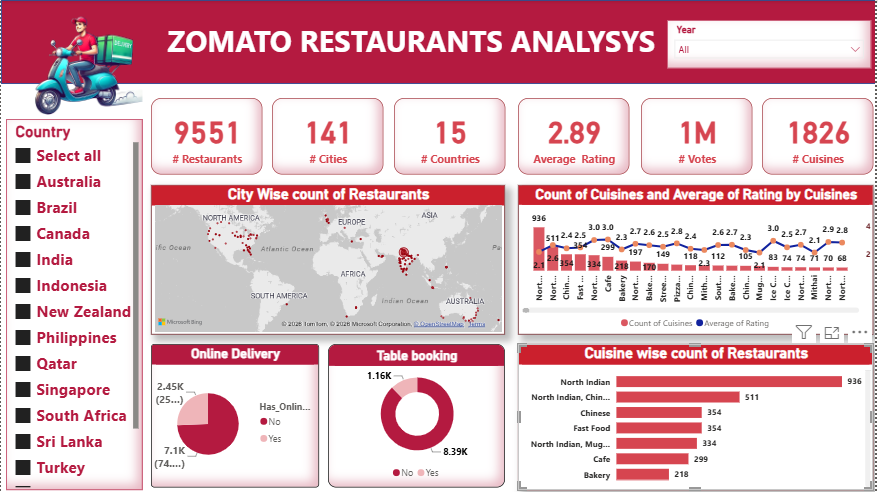

The dashboard page shown, as its layout file describes it:
{"tool":"powerbi","page":{"name":"Zomato_Restaurant_Dashboard","canvas":[1280,720],"ordinal":0},"visuals":[{"type":"shape","box":[0,0,1280.4,122.9],"z":0},{"type":"image","box":[0,0,240.2,183.5],"z":1000},{"type":"textbox","box":[220,24.3,762.1,76],"z":2000},{"type":"card","fields":{"Values":["Count(restaurants.RestaurantID)"]},"box":[219.4,143.7,162.6,111.6],"z":3000},{"type":"card","fields":{"Values":["Count(restaurants.City)"]},"box":[397.2,143.7,162.6,111.6],"z":4000},{"type":"card","fields":{"Values":["Count(restaurants.CountryCode)"]},"box":[574.9,143.7,162.6,111.6],"z":5000},{"type":"card","fields":{"Values":["Avg(restaurants.Rating)"]},"box":[756.5,143.7,162.6,111.6],"z":6000},{"type":"card","fields":{"Values":["Sum(restaurants.Votes)"]},"box":[936.2,143.7,162.6,111.6],"z":7000},{"type":"card","fields":{"Values":["Count(restaurants.Cuisines)"]},"box":[1114,143.7,162.6,111.6],"z":8000},{"type":"slicer","fields":{"Values":["countries.country name"]},"box":[7.3,174.1,200.5,542.9],"z":9000},{"type":"lineStackedColumnComboChart","fields":{"Category":["restaurants.Cuisines"],"Y":["CountNonNull(restaurants.Cuisines)"],"Y2":["Avg(restaurants.Rating)"]},"box":[756.5,270.5,520.1,219.4],"z":10000},{"type":"map","title":"City Wise count of Restaurants","fields":{"Category":["restaurants.City"],"Size":["CountNonNull(restaurants.RestaurantID)"]},"box":[219.4,270.5,518.2,219.4],"z":11000},{"type":"clusteredBarChart","title":"Cuisine wise count of Restaurants","fields":{"Category":["restaurants.Cuisines"],"Y":["CountNonNull(restaurants.RestaurantID)"]},"box":[756.5,503.1,520.1,213.7],"z":12000},{"type":"pieChart","title":"Online Delivery","fields":{"Category":["restaurants.Has_Online_delivery"],"Y":["CountNonNull(restaurants.RestaurantID)"]},"box":[219.4,503.1,245.9,209.9],"z":13000},{"type":"donutChart","title":"Table booking ","fields":{"Category":["restaurants.Has_Table_booking"],"Y":["CountNonNull(restaurants.RestaurantID)"]},"box":[478.5,503.1,259.1,209.9],"z":14000},{"type":"slicer","fields":{"Values":["restaurants.Datekey_Opening.Variation.Date Hierarchy.Year"]},"box":[980,25.7,299.3,71.2],"z":15000}]}

Visuals, with their boxes in screenshot pixels (x1, y1, x2, y2), scaled from the page's 1280x720 canvas onto the 878x492 screenshot:
shape: Rect(0, 0, 877, 84)
image: Rect(0, 0, 165, 125)
textbox: Rect(151, 17, 674, 69)
card - Count(restaurants.RestaurantID): Rect(150, 98, 262, 174)
card - Count(restaurants.City): Rect(272, 98, 384, 174)
card - Count(restaurants.CountryCode): Rect(394, 98, 506, 174)
card - Avg(restaurants.Rating): Rect(519, 98, 630, 174)
card - Sum(restaurants.Votes): Rect(642, 98, 754, 174)
card - Count(restaurants.Cuisines): Rect(764, 98, 876, 174)
slicer - countries.country name: Rect(5, 119, 143, 490)
lineStackedColumnComboChart - restaurants.Cuisines x CountNonNull(restaurants.Cuisines): Rect(519, 185, 876, 335)
"City Wise count of Restaurants" map: Rect(150, 185, 506, 335)
"Cuisine wise count of Restaurants" clusteredBarChart: Rect(519, 344, 876, 490)
"Online Delivery" pieChart: Rect(150, 344, 319, 487)
"Table booking " donutChart: Rect(328, 344, 506, 487)
slicer - restaurants.Datekey_Opening.Variation.Date Hierarchy.Year: Rect(672, 18, 877, 66)
